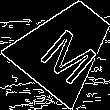M_NE: (31, 13, 100, 81)
